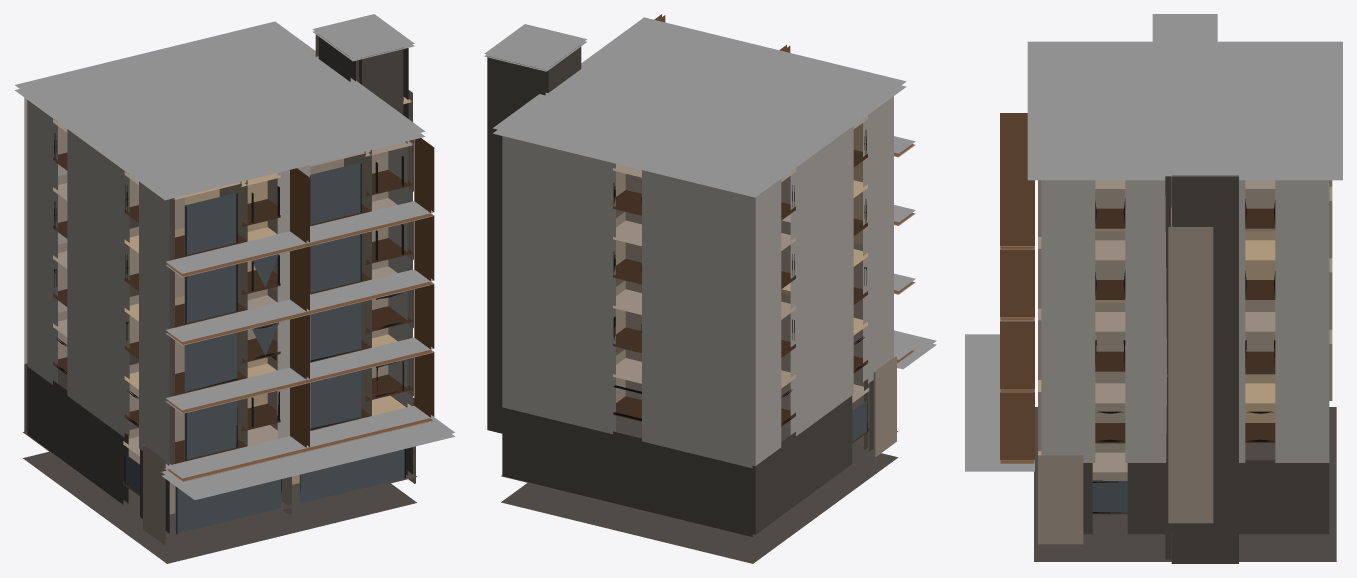
The model's file is apartment_12x12_5_far.glb.
3 views of the same model, side by side, from view 1: azimuth 30°, elevation 25°; view 2: azimuth 150°, elevation 25°; view 3: azimuth 270°, elevation 25° (orthographic). The views are drawn at different scales.
Parts seen in each view (by area): view 1: apartment_12x12_5; view 2: apartment_12x12_5; view 3: apartment_12x12_5.
Part boxes in pixels (x1,y1,x2,y2): apartment_12x12_5: [15, 14, 454, 563]; apartment_12x12_5: [484, 14, 936, 563]; apartment_12x12_5: [965, 14, 1342, 563].
Bounding box in the file's own units: 15.22 × 19.2 × 15.1.
